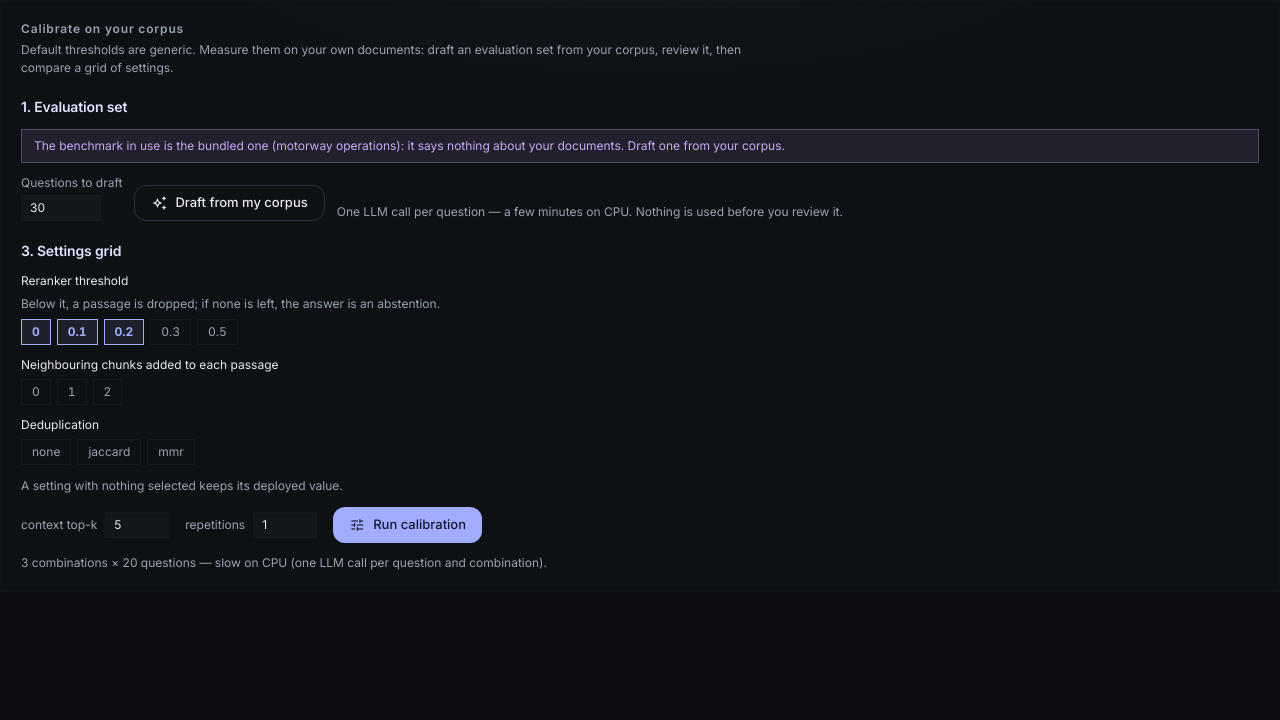
Test: CalibrationWizard › refuses a grid over the cap
Expected: the text "combinations" is shown, [21, 555, 547, 570]
Click the button "0.3" at (171, 332), box [150, 319, 191, 345]
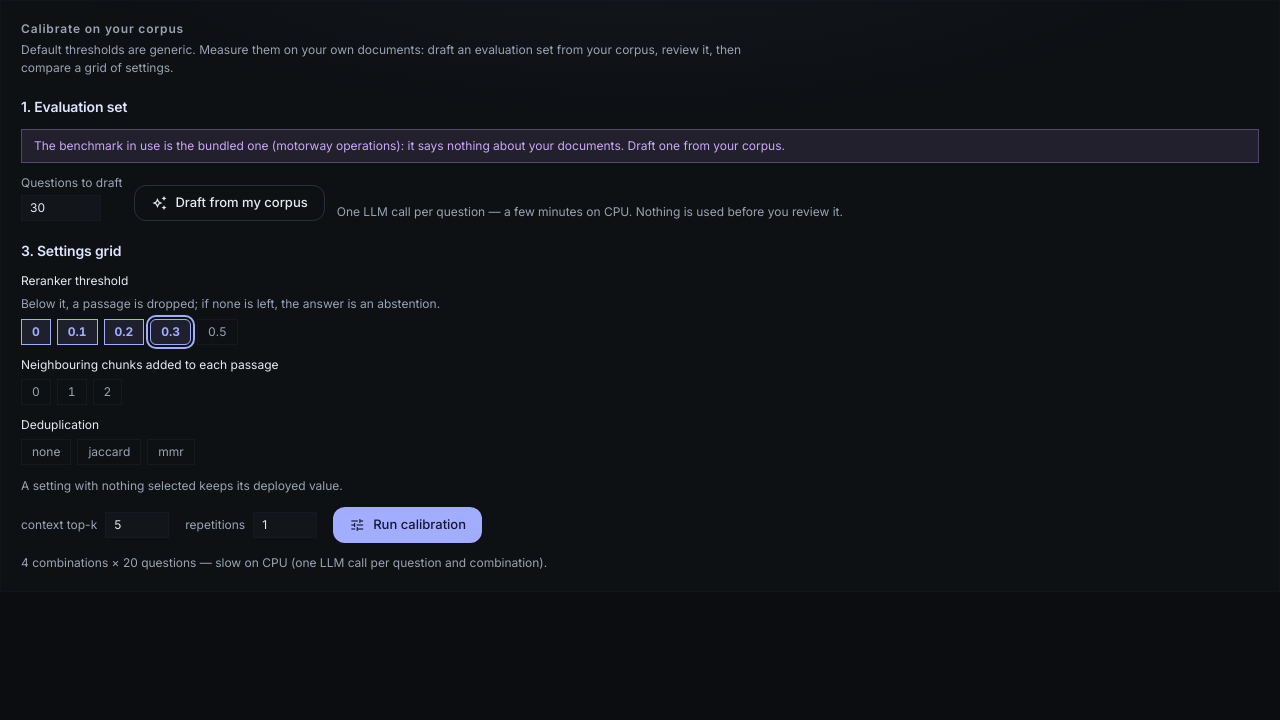
Click the button "0.5" at (217, 332), box [197, 319, 238, 345]
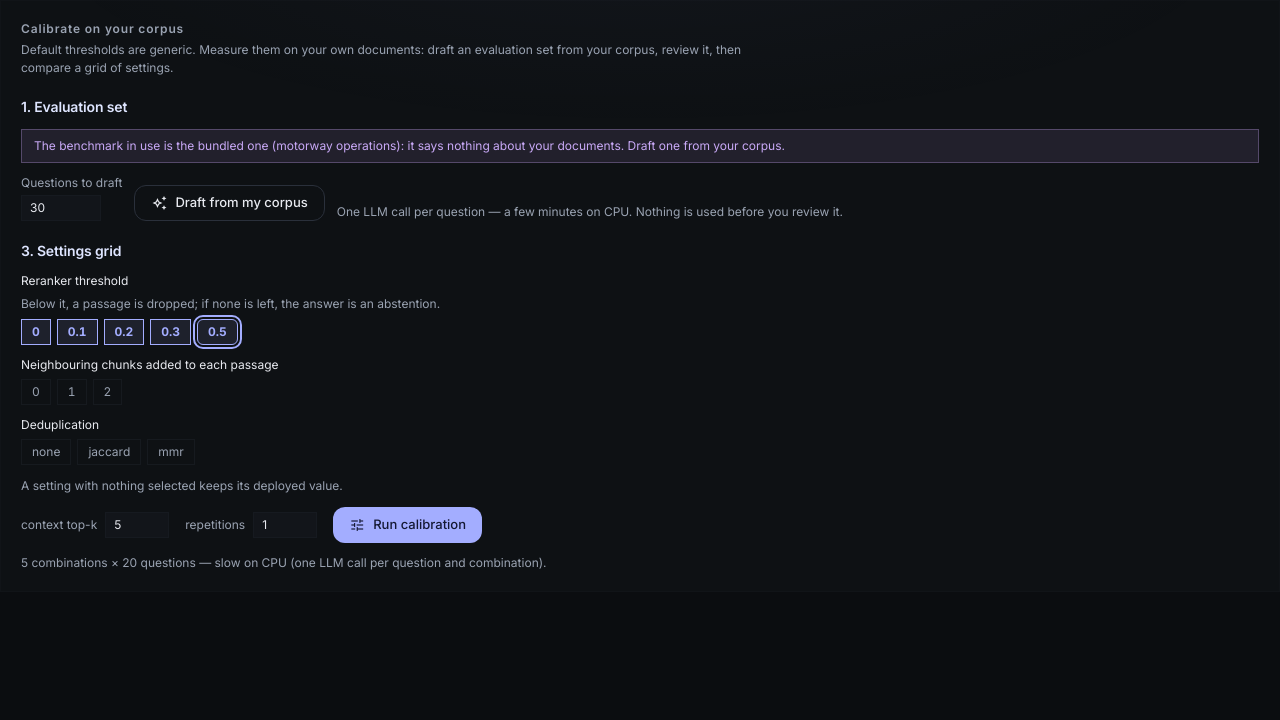
Click the button "1" at (72, 392), box [57, 379, 87, 405]
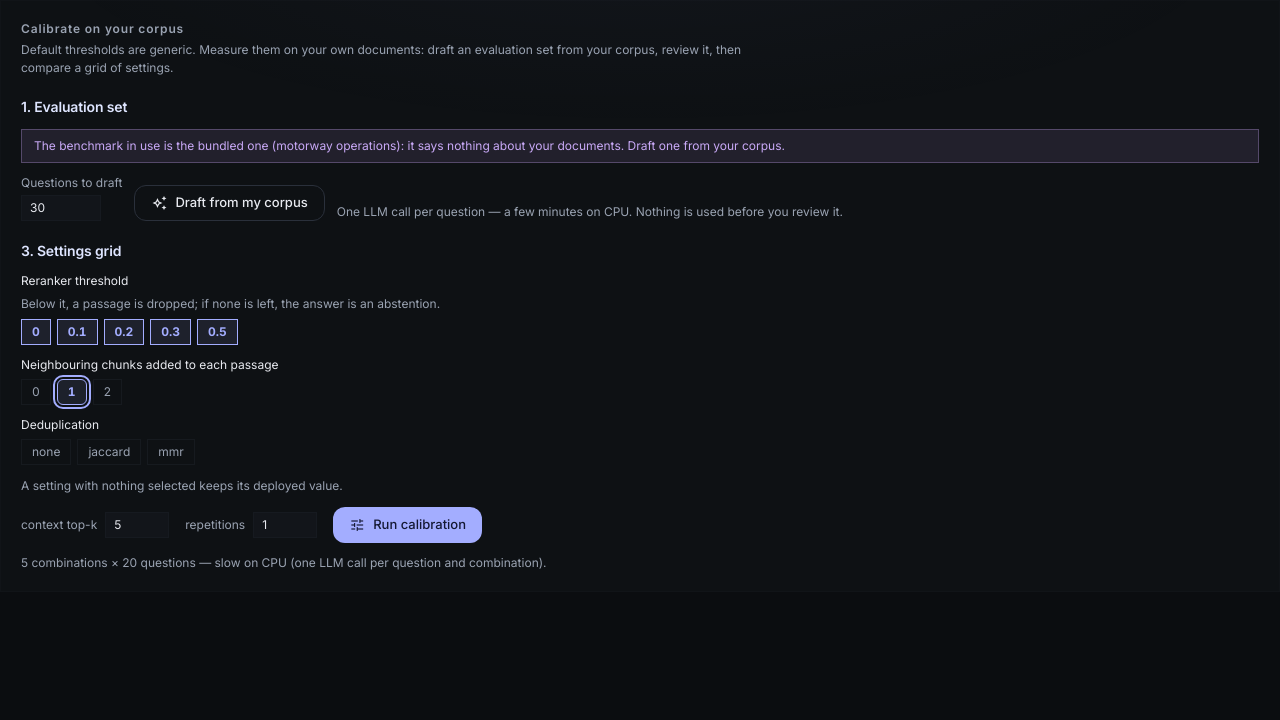
Click the button "2" at (107, 392), box [92, 379, 122, 405]
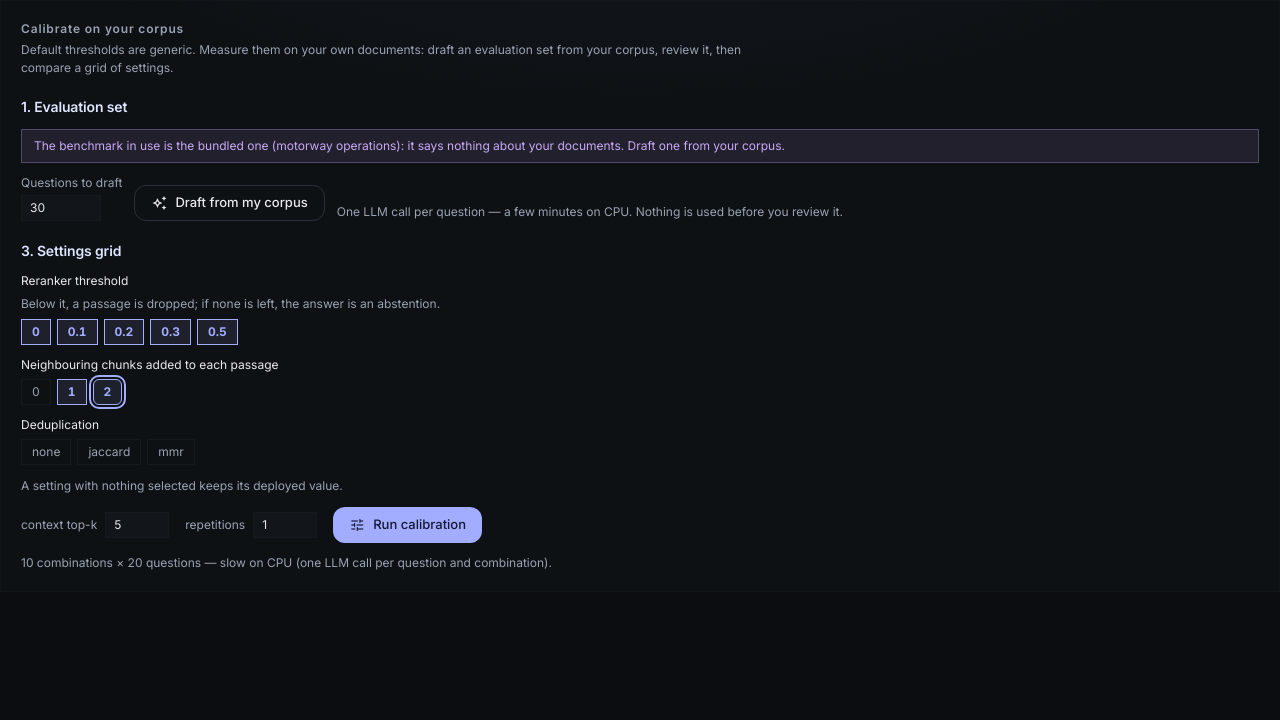
Click the button "none" at (46, 452), box [21, 439, 71, 465]
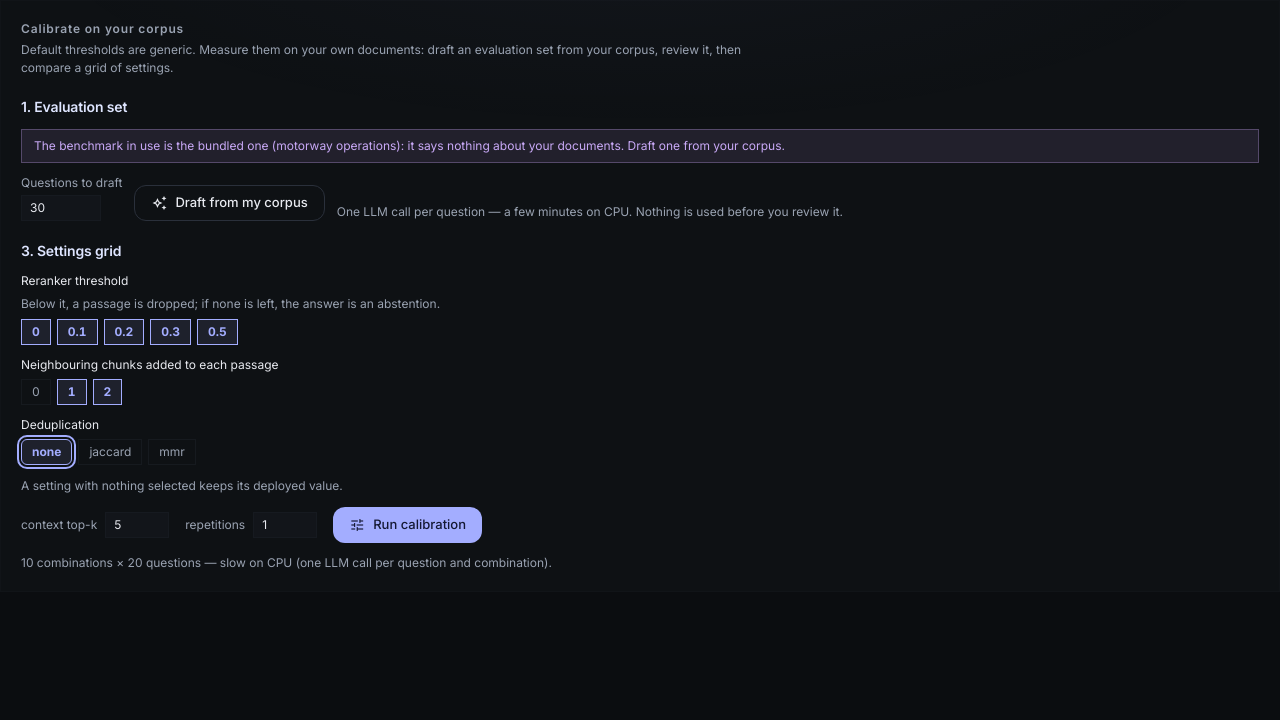
Click the button "mmr" at (172, 452), box [148, 439, 196, 465]
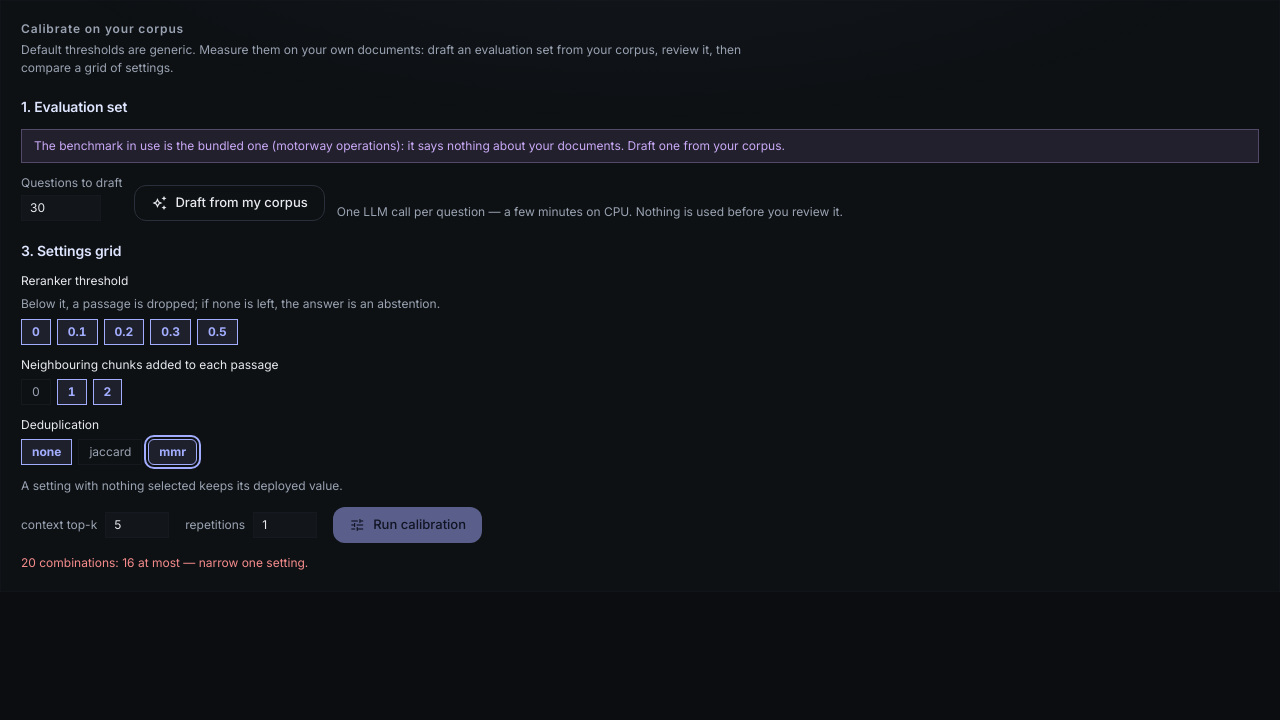
Now the text "20 combinations: 16 at most — narrow one setting." is shown, box [21, 555, 308, 570]
Now the button "Run calibration" is disabled, box [333, 507, 482, 543]
